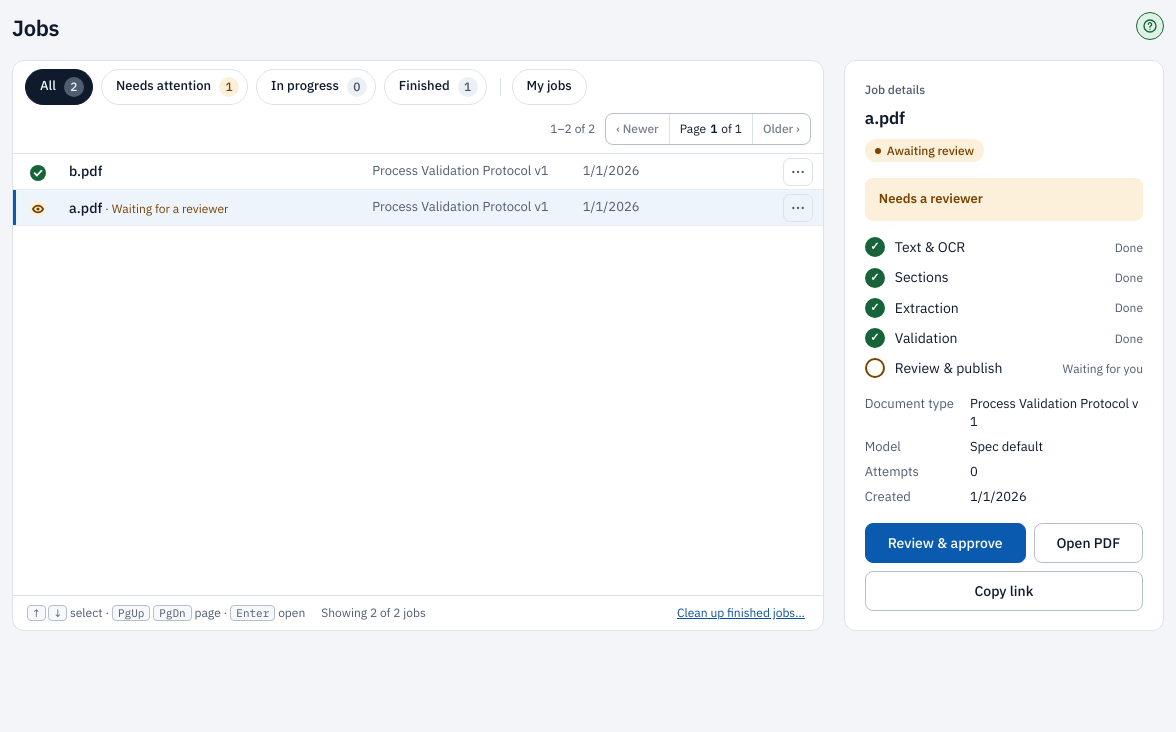
Scenario: JobsPage › selects the first job needing attention by default and follows clicks
The width and height of the screenshot is (1176, 732).
Check: the heading "a.pdf" is shown, box x1=865 y1=107 x2=905 y2=129
Click the button with aria-label "Show details for b.pdf". click: (86, 172)
box: x1=69 y1=162 x2=102 y2=182
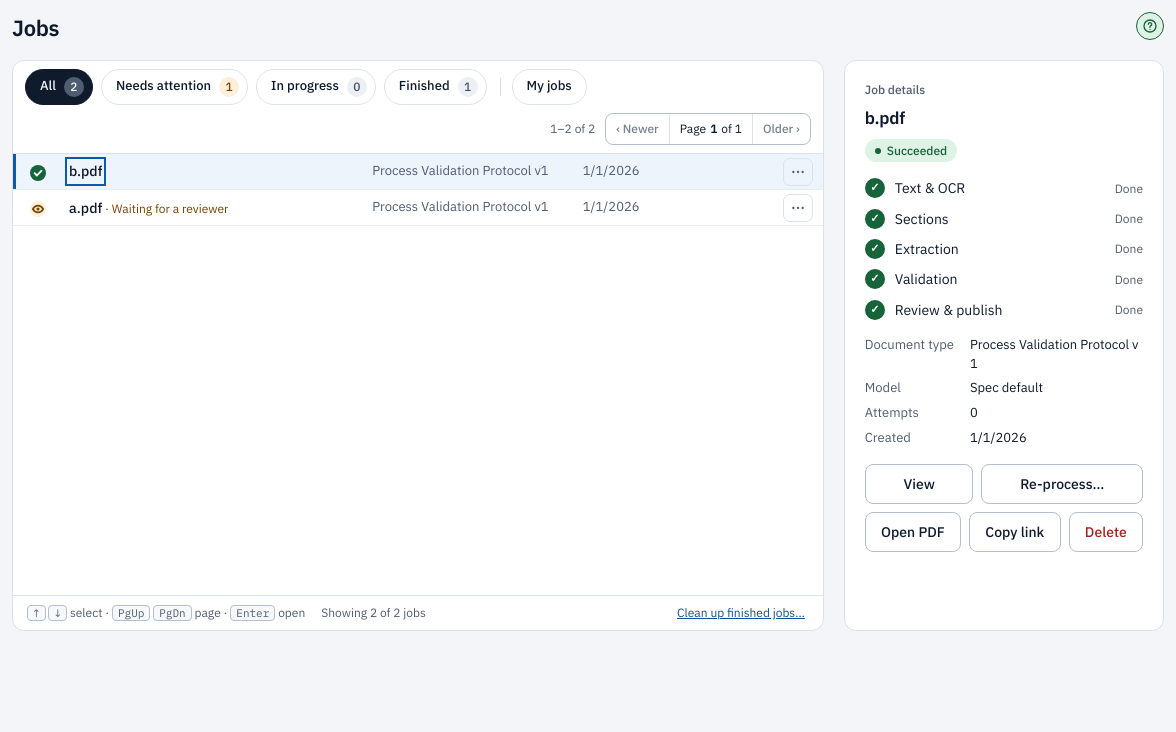
Check: the heading "b.pdf" is shown, box x1=865 y1=107 x2=905 y2=129
